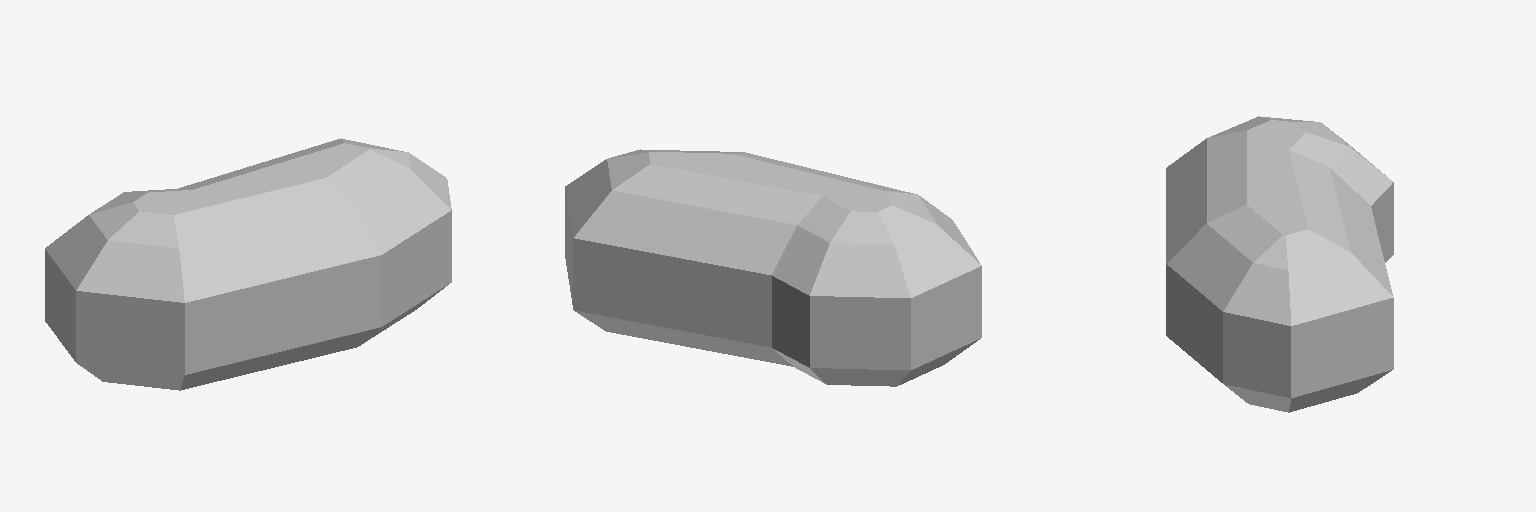
The model's file is Prop_Rock_1.obj.
The picture shows the model from 3 angles: view 1: azimuth 30°, elevation 25°; view 2: azimuth 150°, elevation 25°; view 3: azimuth 270°, elevation 25°; orthographic projection.
Parts seen in each view (by area): view 1: object1; view 2: object1; view 3: object1.
Part boxes in pixels (x1,y1,x2,y2): object1: (45,138,451,390); object1: (565,149,981,386); object1: (1166,116,1393,412).
Bounding box in the file's own units: 2 × 0.75 × 1.